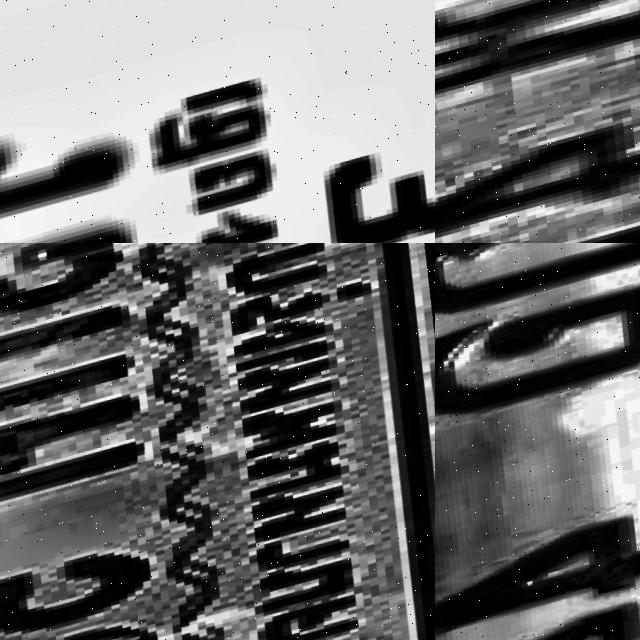license-plate: (0, 243, 435, 640), (0, 0, 435, 243), (435, 243, 640, 640), (435, 0, 640, 243)
